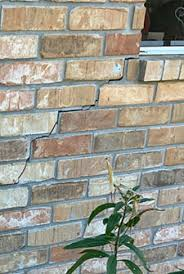stairstep_crack: (0, 55, 139, 186)
